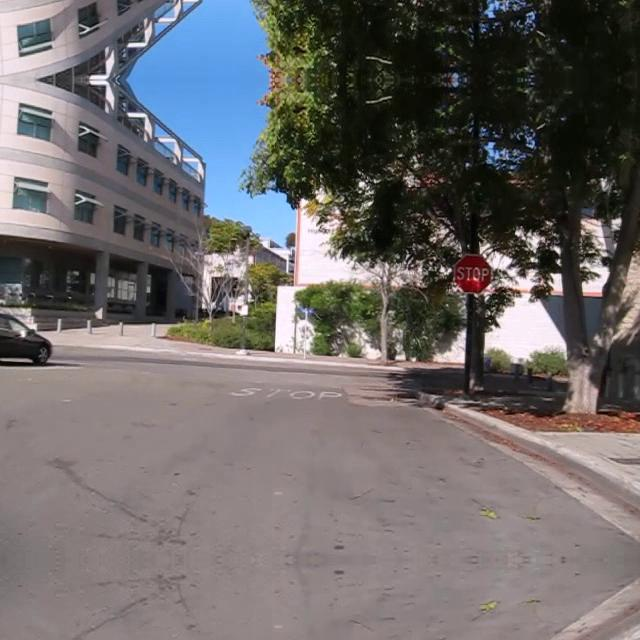stop: (452, 252, 492, 294)
